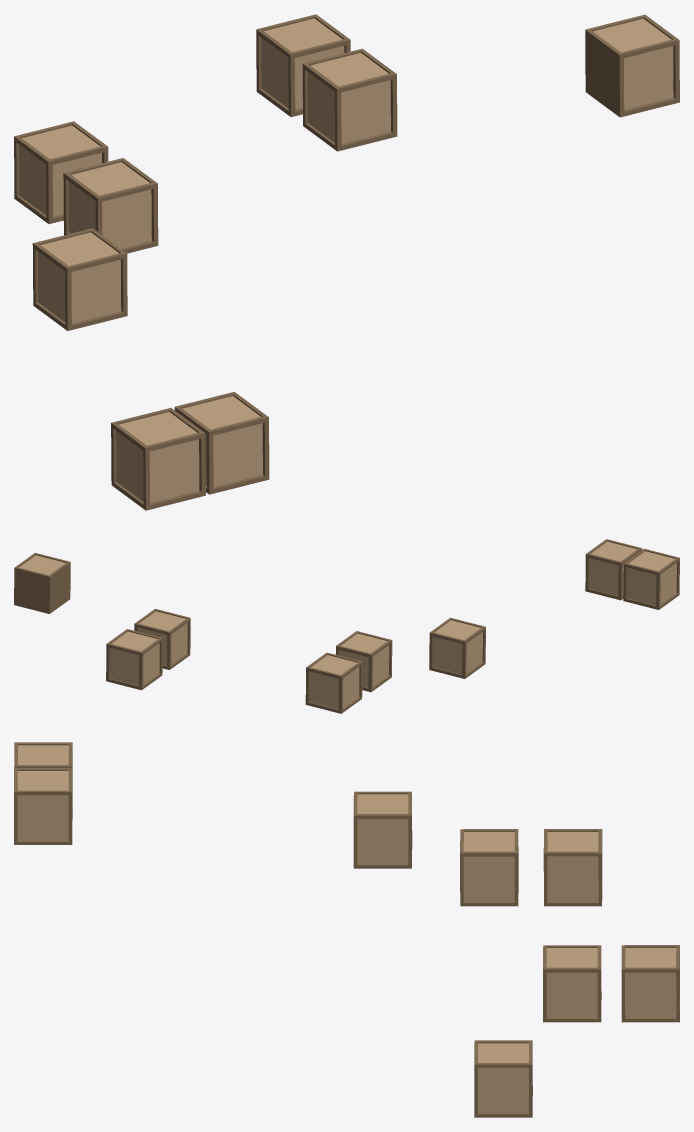
3 renders of one model, top to bottom at view 1: azimuth 30°, elevation 25°; view 2: azimuth 150°, elevation 25°; view 3: azimuth 270°, elevation 25°, orthographic. The views are drawn at different scales.
Visible parts, largest first — view 1: Cube_002, Object001; view 2: Cube_002, Object001; view 3: Cube_002, Object001.
Boxes of the visible parts, x1=… form: Cube_002: x1=14, y1=14, x2=397, y2=510; Object001: x1=585, y1=14, x2=679, y2=117; Cube_002: x1=106, y1=539, x2=679, y2=713; Object001: x1=14, y1=553, x2=70, y2=613; Cube_002: x1=14, y1=742, x2=679, y2=1022; Object001: x1=474, y1=1040, x2=532, y2=1117.
Size of the model in its own units: 660 by 57.88 by 559.
Materials: 1 (1 with a texture image).
